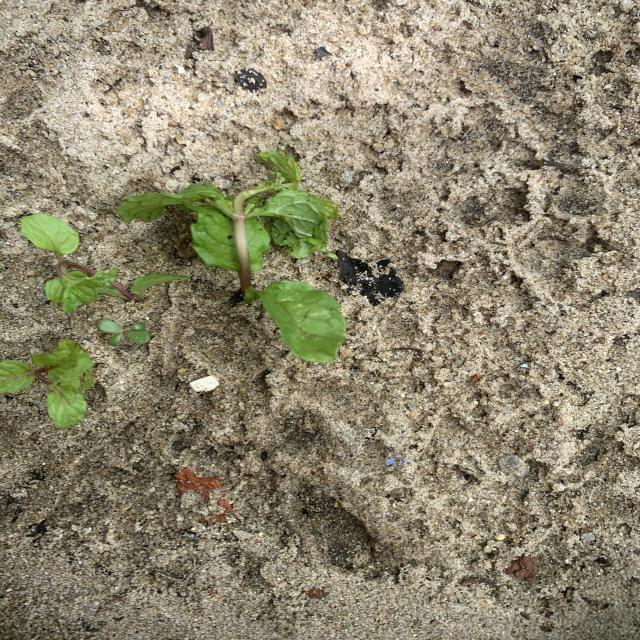crop: (121, 150, 346, 363), (20, 213, 187, 311), (1, 340, 91, 426)
weed: (98, 319, 151, 345)
